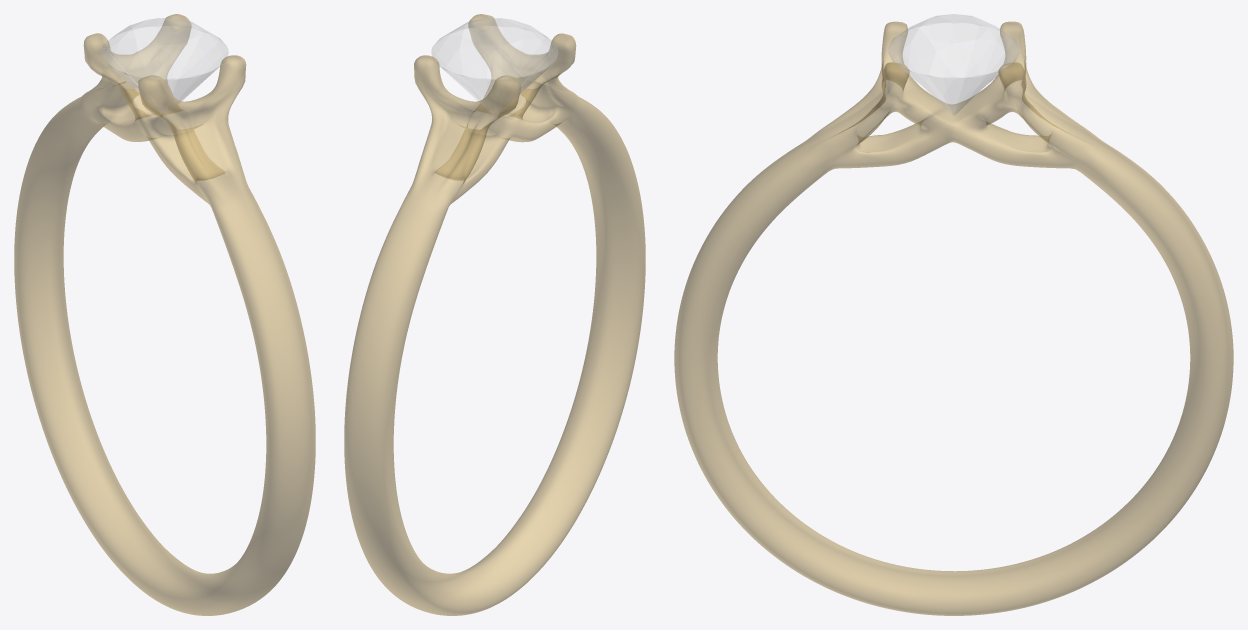
The picture shows the model from 3 angles, left to right: view 1: azimuth 30°, elevation 25°; view 2: azimuth 150°, elevation 25°; view 3: azimuth 270°, elevation 25°; orthographic projection. The views are drawn at different scales.
Visible parts, largest first — view 1: Ring, Diamond; view 2: Ring, Diamond; view 3: Ring, Diamond.
Boxes of the visible parts, bbox=[...] form: Ring: bbox=[14, 14, 315, 615]; Diamond: bbox=[102, 18, 228, 115]; Ring: bbox=[344, 14, 645, 615]; Diamond: bbox=[431, 18, 557, 115]; Ring: bbox=[674, 21, 1233, 615]; Diamond: bbox=[888, 14, 1019, 115].
Size of the model in its own units: 0.5448 by 2.67 by 2.32.
